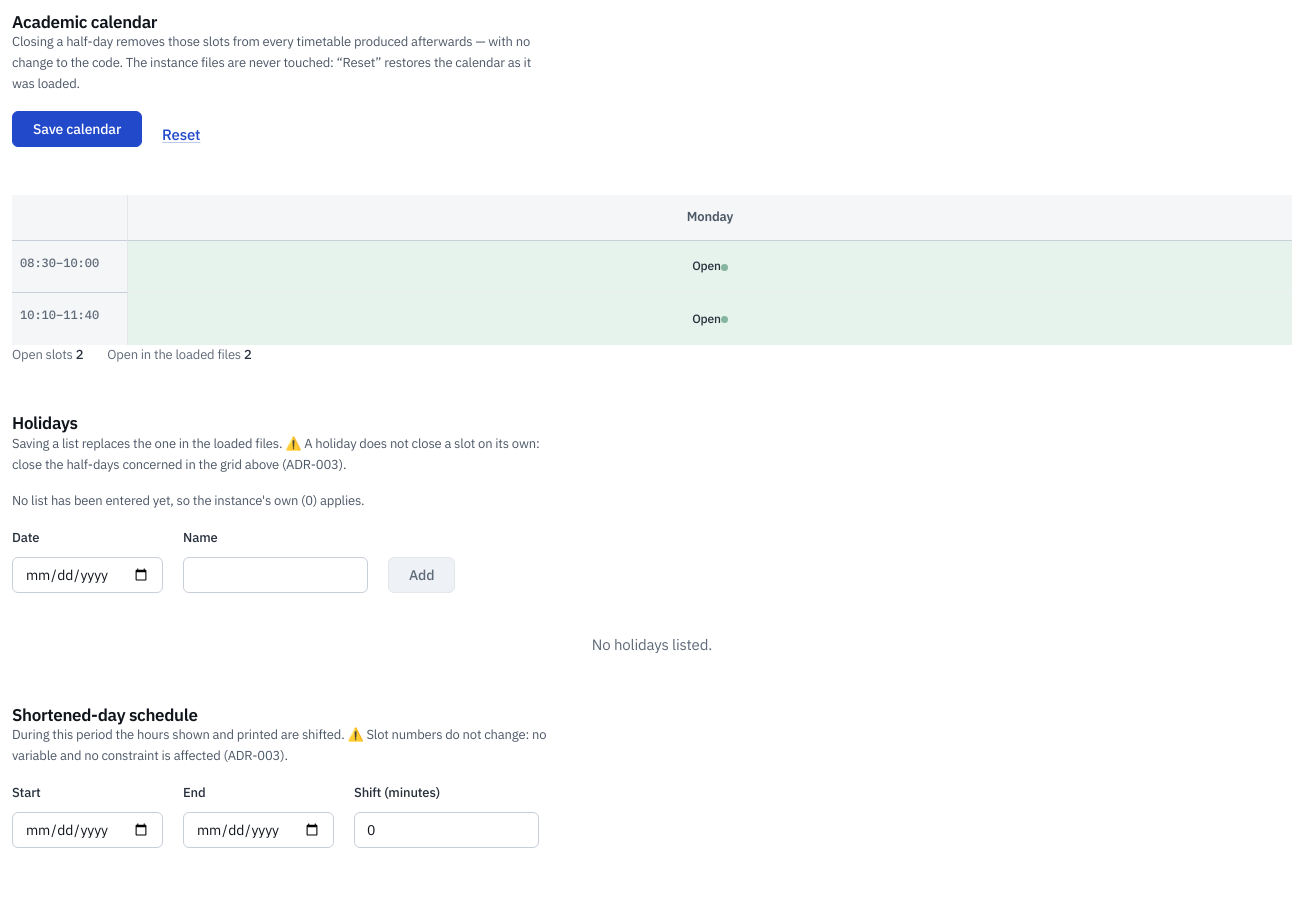
the margin being spent › follows an edit before it is saved
The image size is (1292, 912).
Expected: the text with test id "open-slot-count" reads "2", [76, 346, 83, 363]
Click the checkbox with test id "calendar-slot-1".
click(710, 319)  # box [128, 293, 1291, 345]
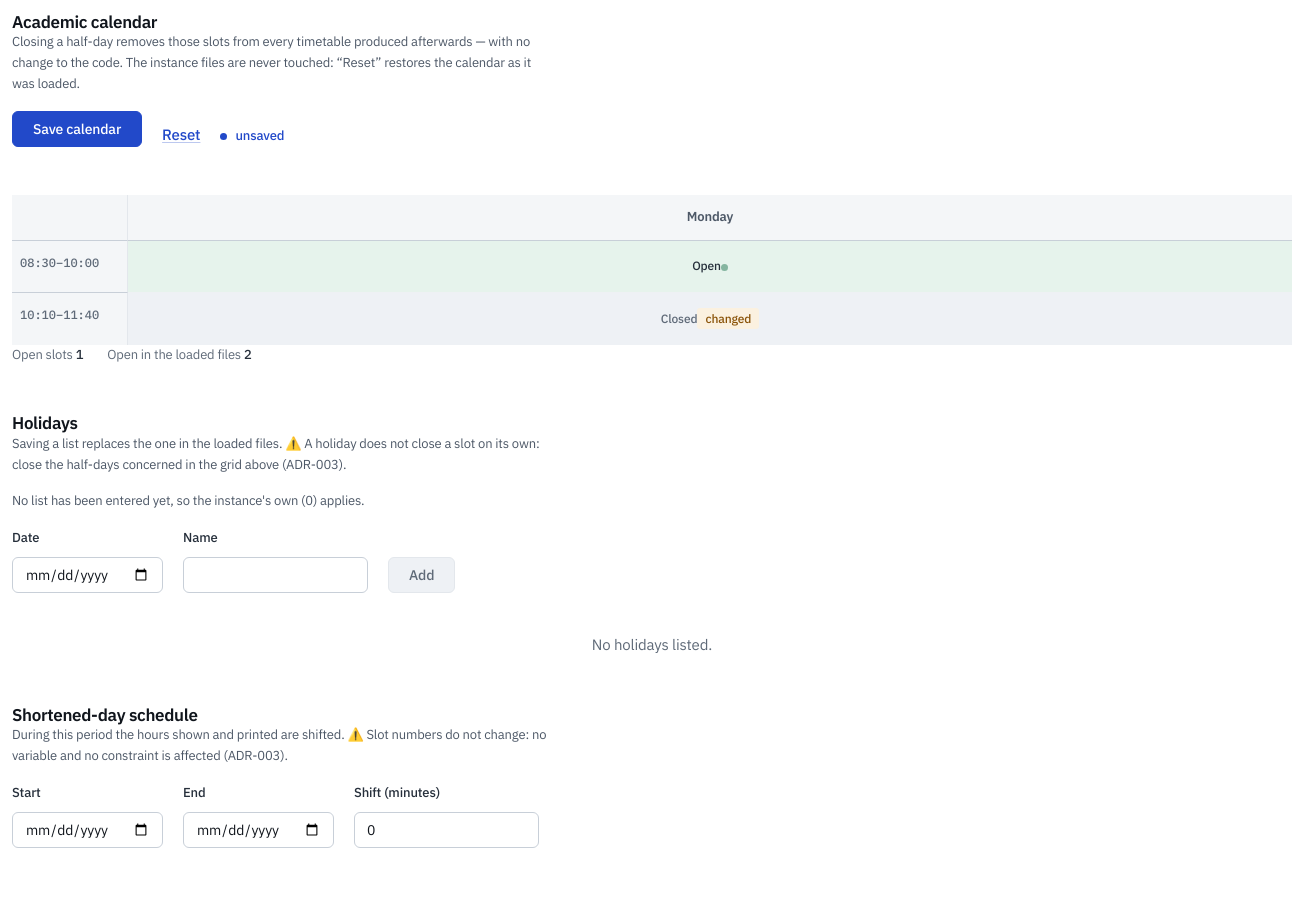
Expected: the text with test id "open-slot-count" reads "1", [76, 346, 83, 363]
